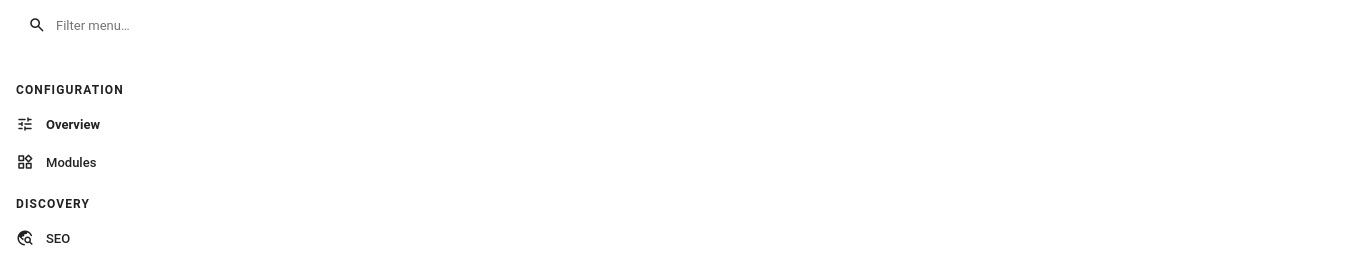
Test case: SettingsSidebar › filters groups and items by the menu input
Type "seo" into the search field with test id "site-settings.sidebar.filter". click: (694, 25)
box: top-left (54, 16), bottom-right (1334, 34)
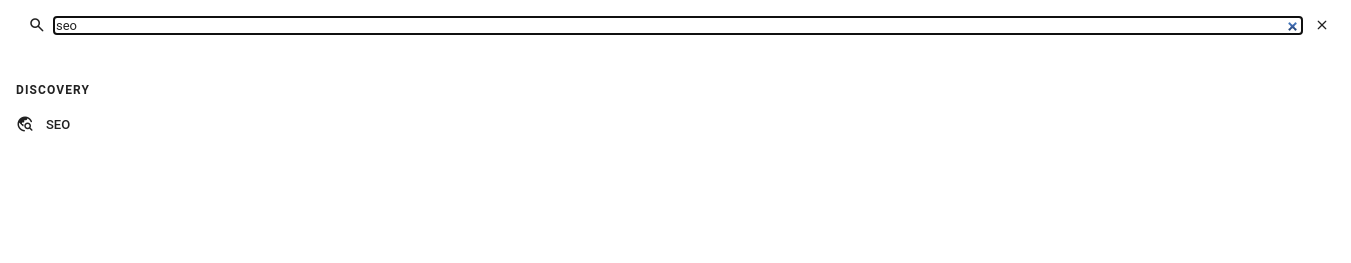
Check: the text "Discovery" is shown, box top-left (16, 83), bottom-right (90, 97)
Check: the text "Configuration" is gone
